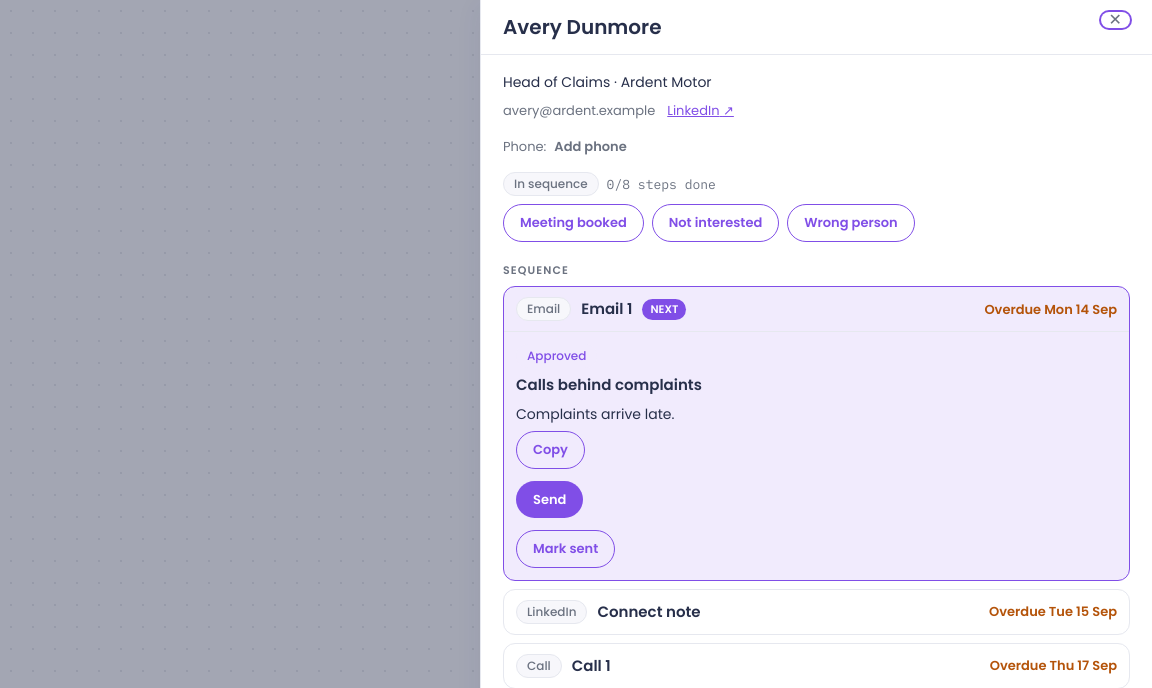
it: the drawer's Send › sends the step through the server, shows what happened, and has the page read again
This screenshot has width=1152, height=688.
Click the button "Send" at (550, 500), box [516,481,583,518]
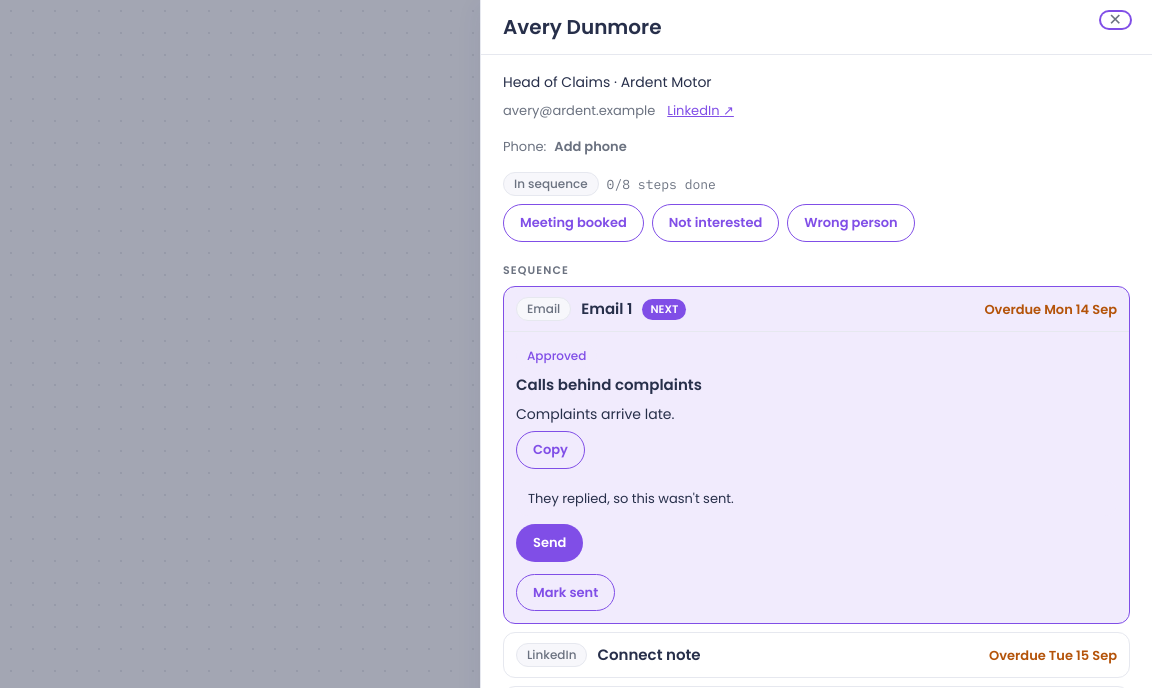
Expected: the text with test id "drawer-send-note" reads "They replied, so this wasn't sent.", [528,489,734,508]
